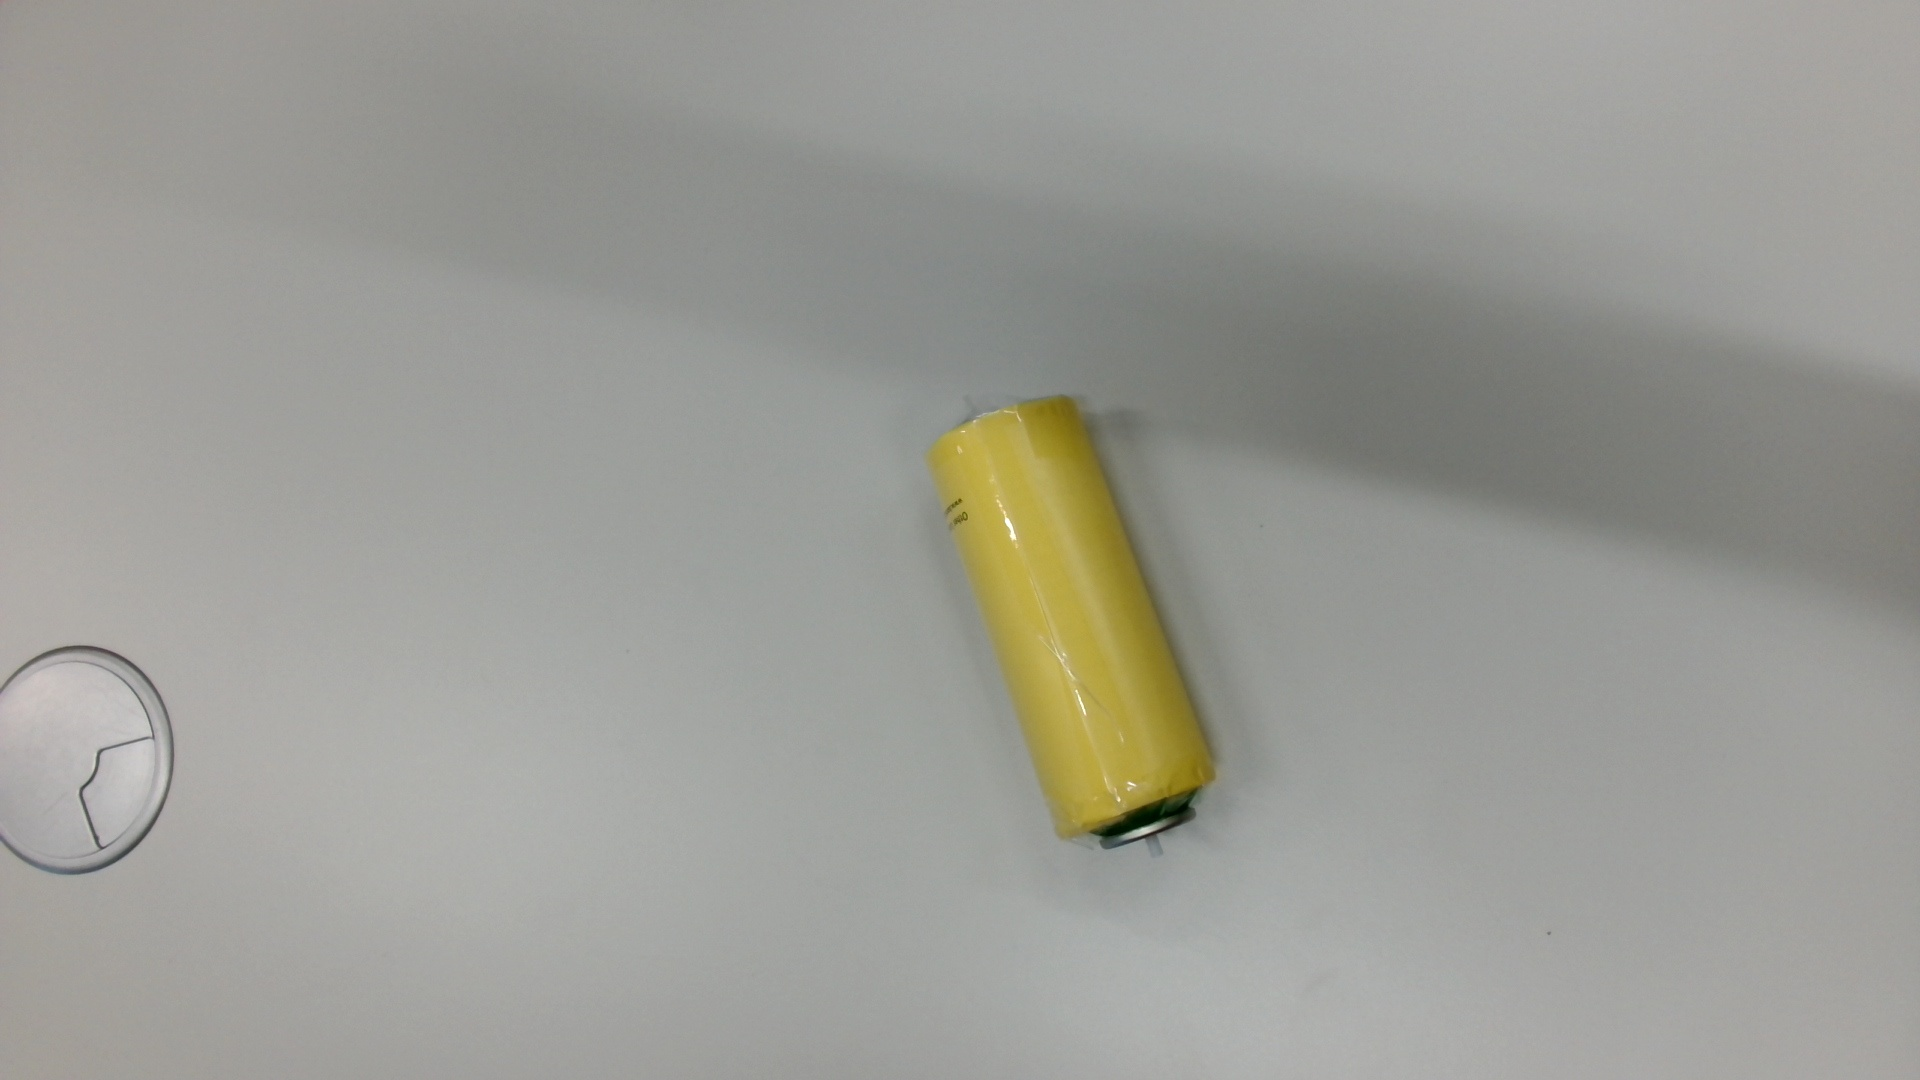Cylinder: (919, 382, 1244, 868)
